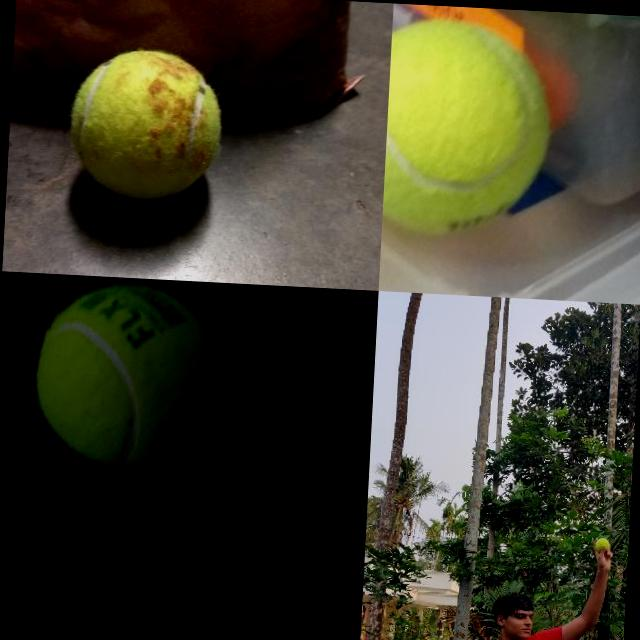Tennis Ball: (382, 17, 558, 242), (31, 278, 228, 472), (64, 46, 226, 204), (594, 538, 609, 552)
